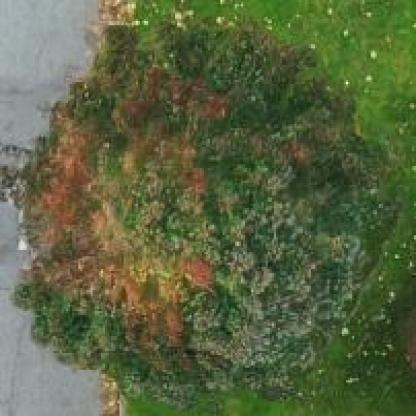Deciduous Tree: (12, 5, 383, 388)
